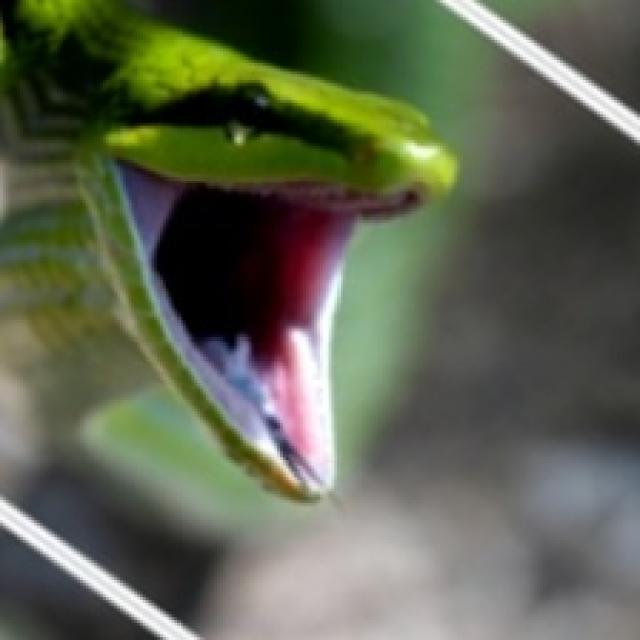red-tailed green ratsnake: (0, 0, 456, 501)
